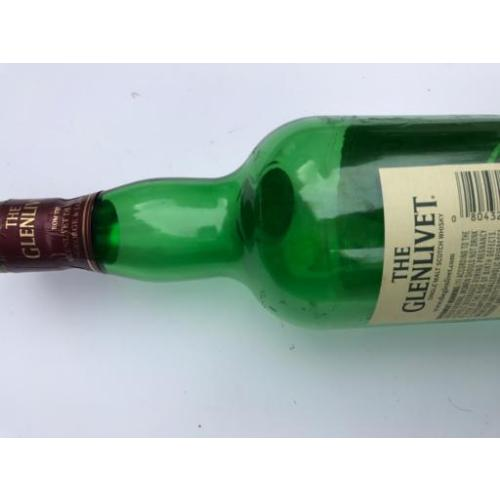glass: (0, 114, 499, 324)
